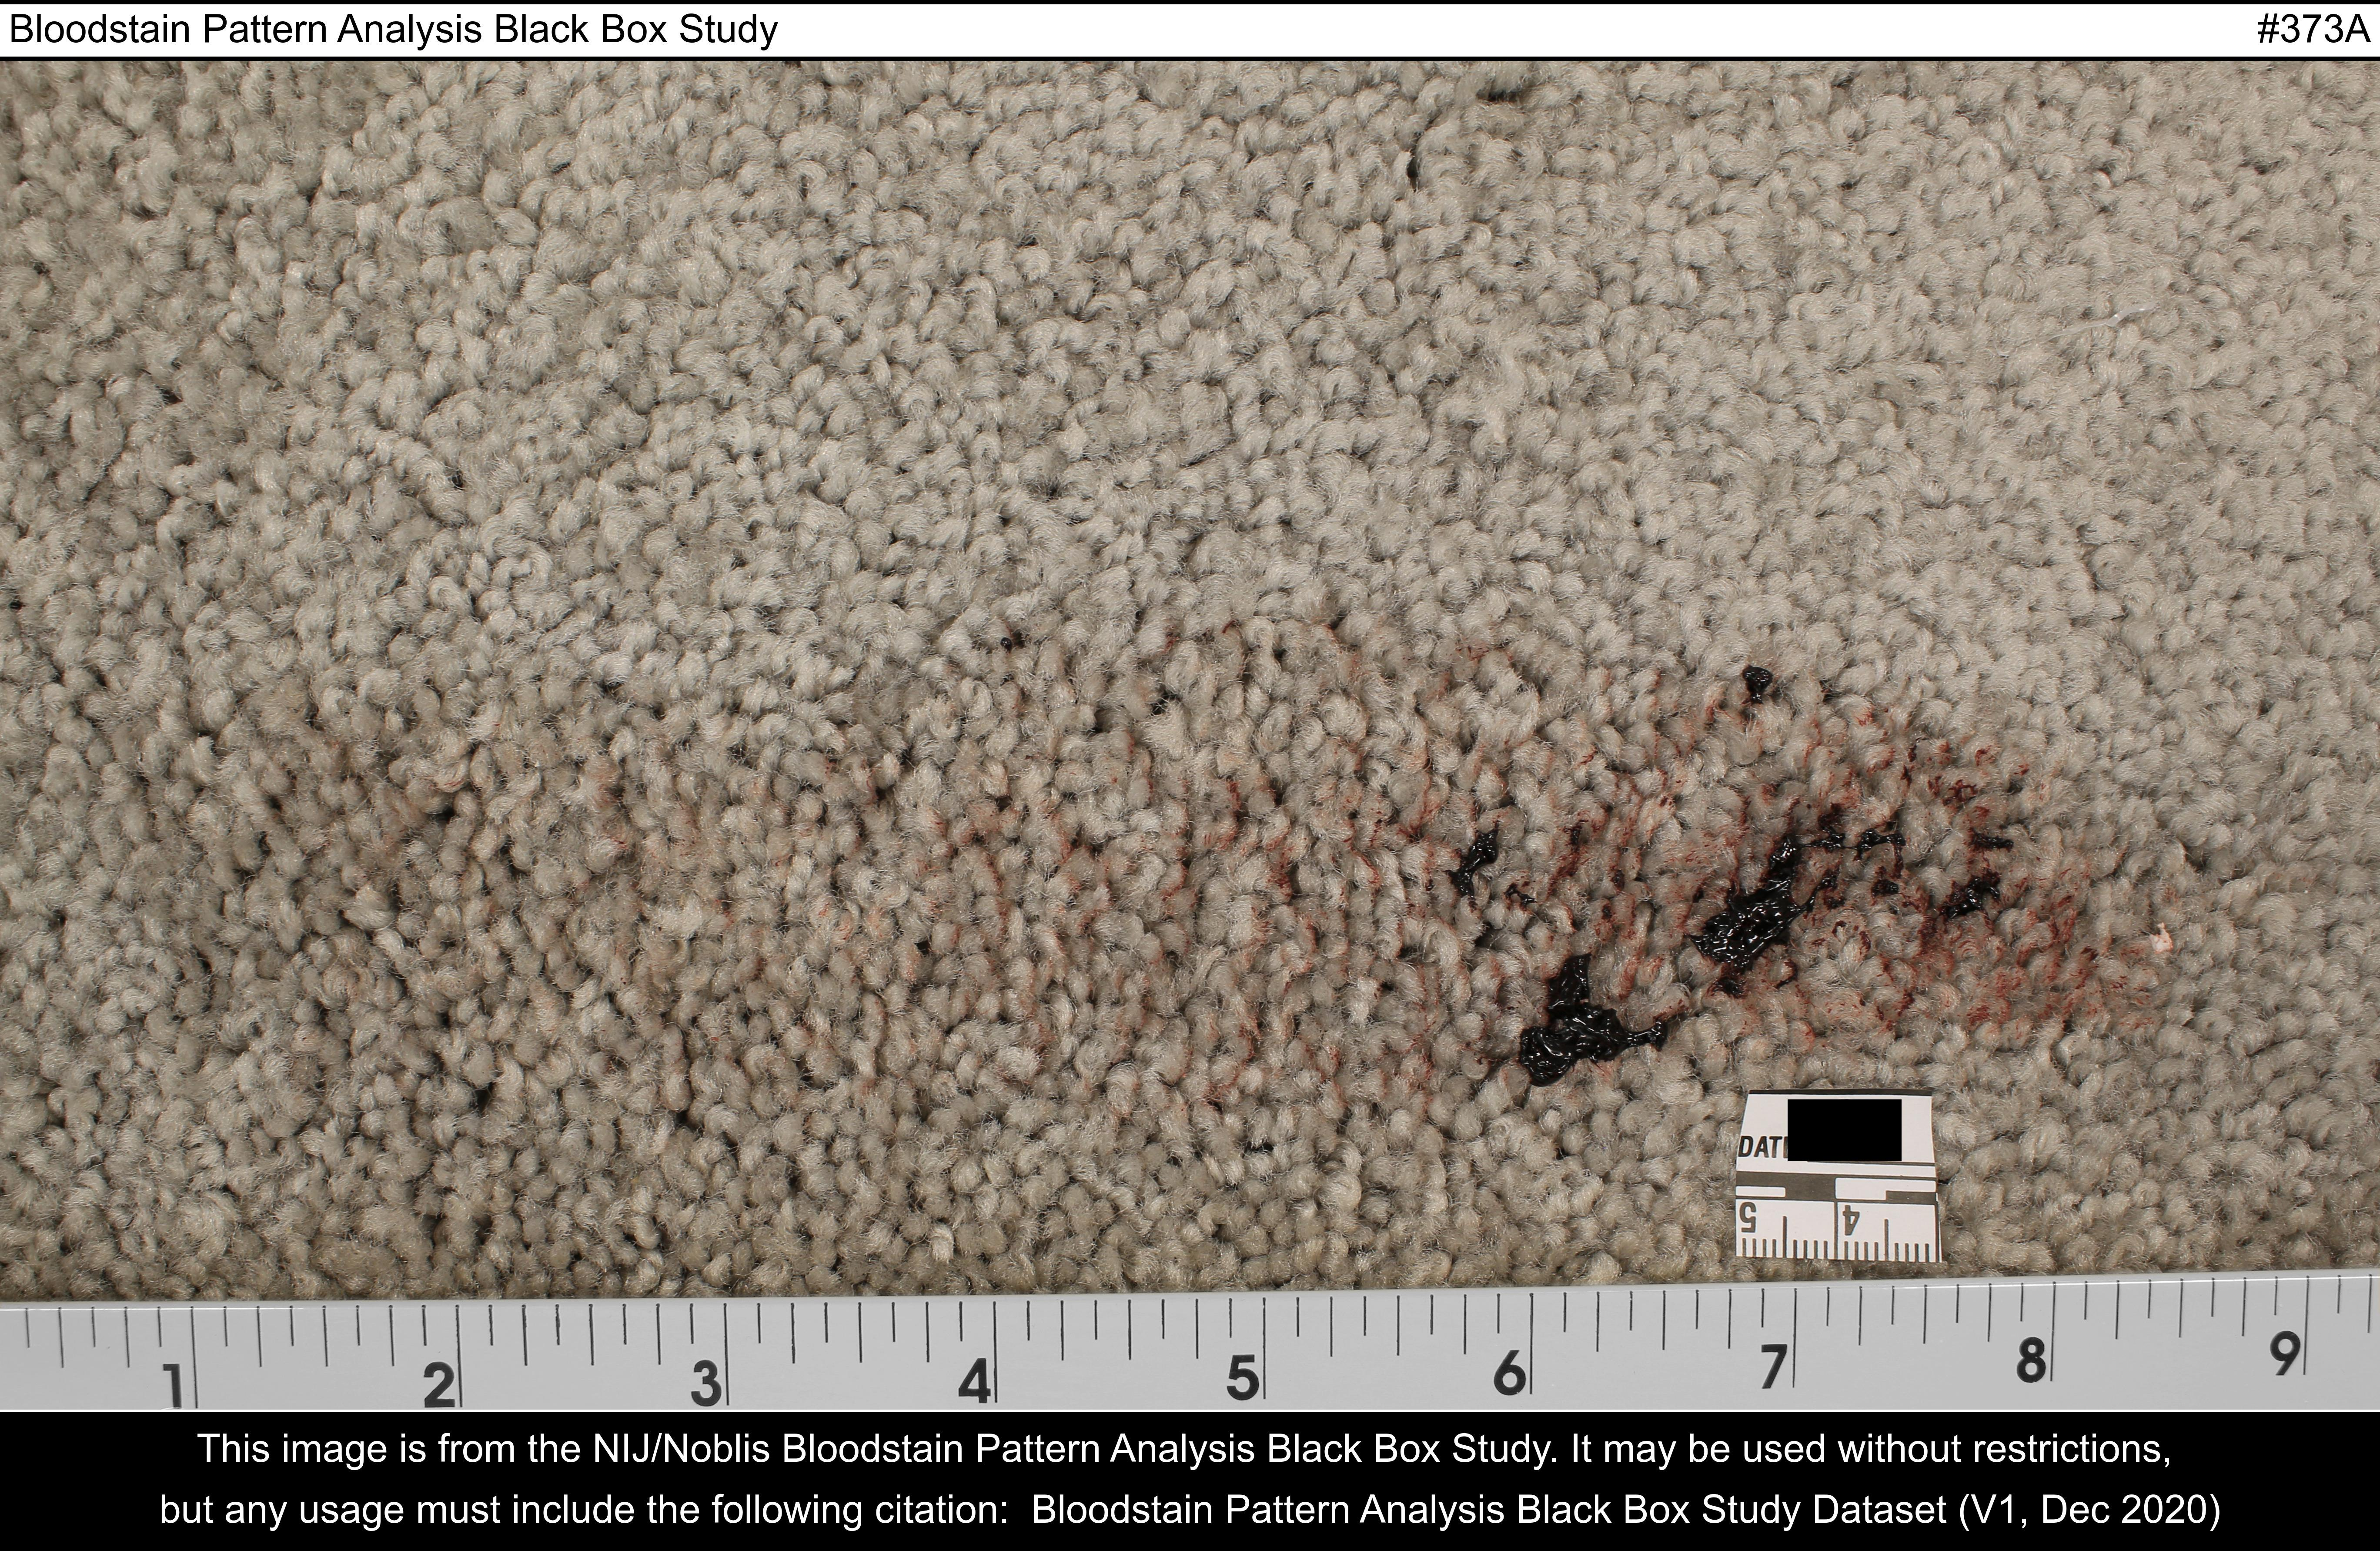Transfer: (1424, 800, 1835, 1081)
